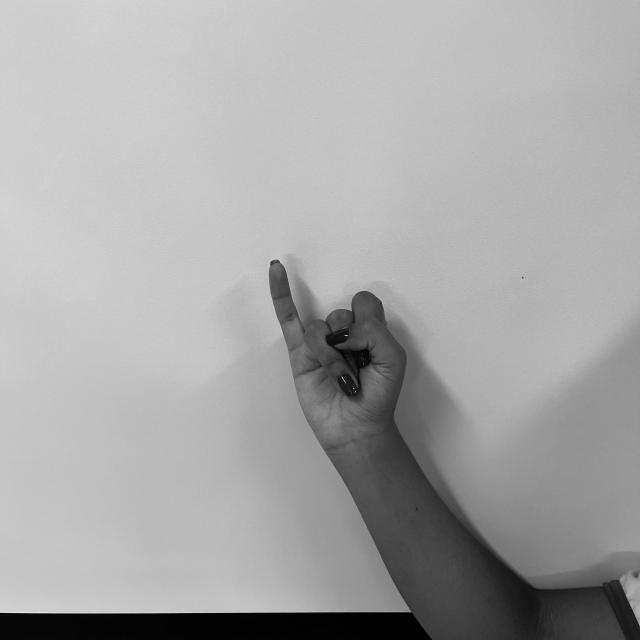Letra I: (260, 255, 416, 450)
